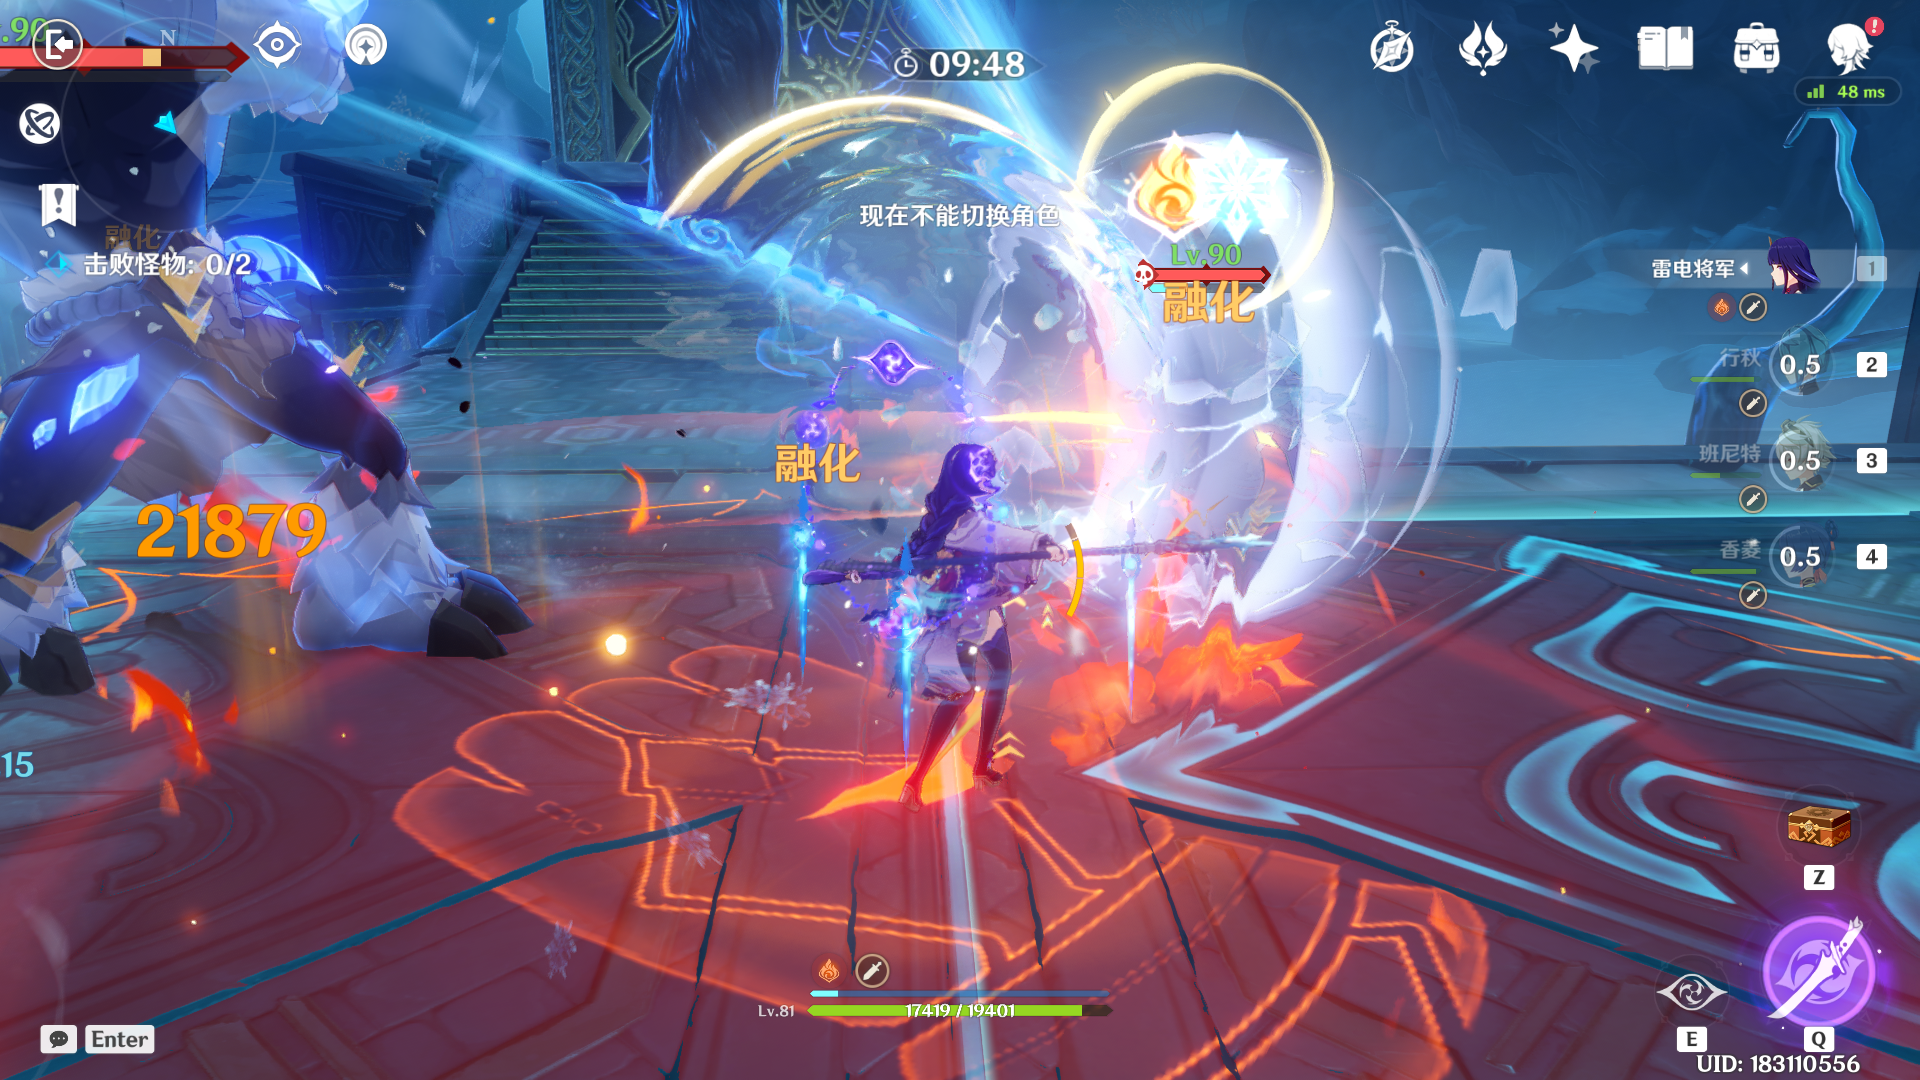character: (822, 392, 1122, 833)
